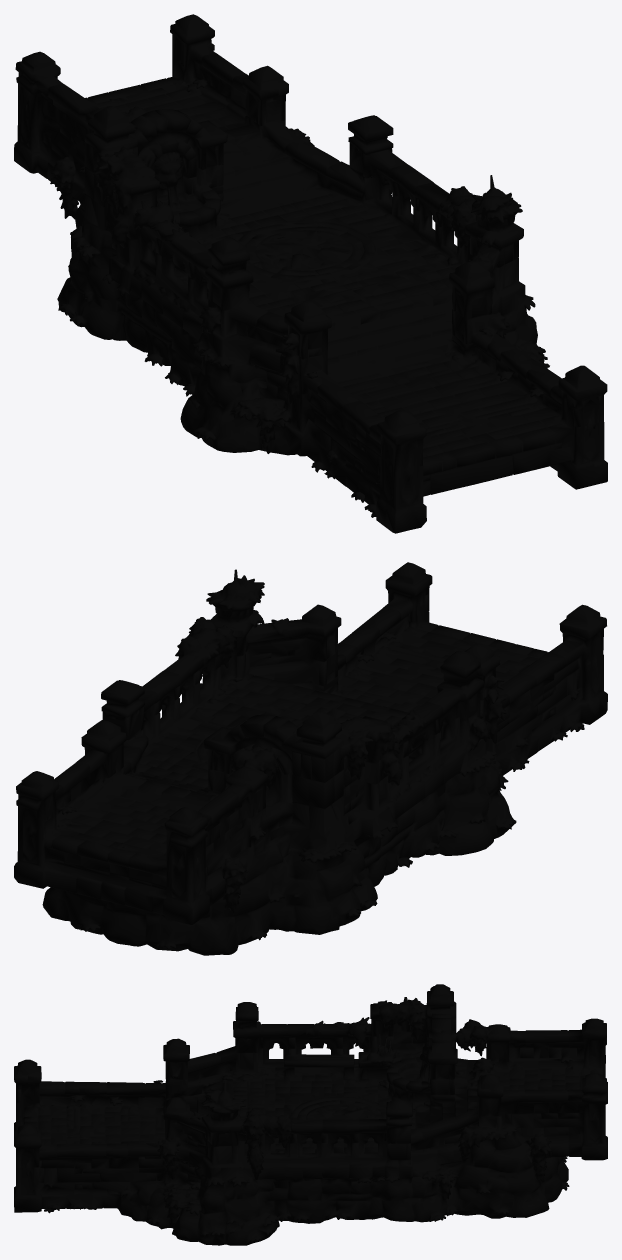
Rendered from StreetLandingTransition-PBRRescue.glb.
3 views of the same model, one above another, from view 1: azimuth 30°, elevation 25°; view 2: azimuth 150°, elevation 25°; view 3: azimuth 270°, elevation 25° (orthographic). The views are drawn at different scales.
Parts seen in each view (by area): view 1: tripo_node_9a95e606-bc0b-45de-b436-bffd5791954c; view 2: tripo_node_9a95e606-bc0b-45de-b436-bffd5791954c; view 3: tripo_node_9a95e606-bc0b-45de-b436-bffd5791954c.
Part boxes in pixels (x1=…): tripo_node_9a95e606-bc0b-45de-b436-bffd5791954c: x1=14, y1=14, x2=607, y2=533; tripo_node_9a95e606-bc0b-45de-b436-bffd5791954c: x1=14, y1=562, x2=607, y2=955; tripo_node_9a95e606-bc0b-45de-b436-bffd5791954c: x1=14, y1=984, x2=607, y2=1245.
Bounding box in the file's own units: 0.4702 × 0.3001 × 0.9792.
Materials: 1 (1 with a texture image).
